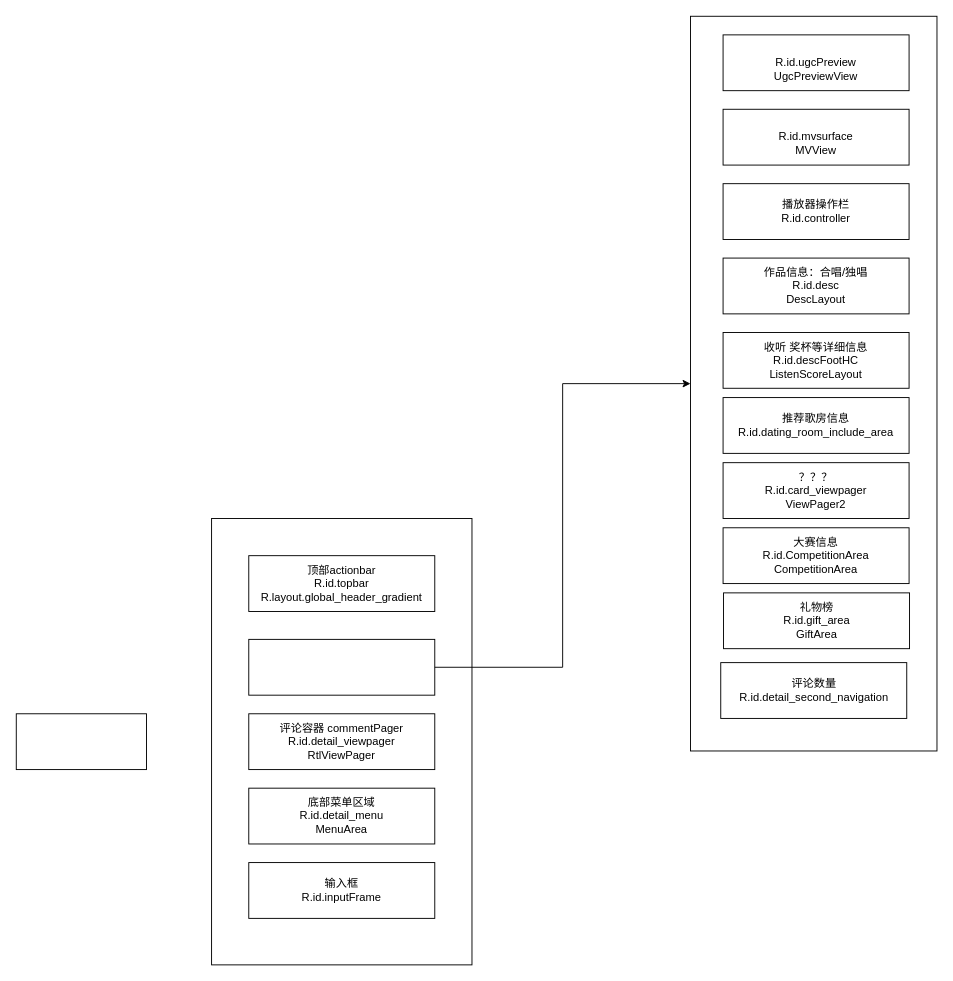
This 953x981 diagram has some shape labels left out. Each missing label, with the box of its shape:
DetailFragment: (15, 713, 146, 770)
视频播放部分 R.id.detail_header R.layout.main_mv: (248, 638, 435, 695)
